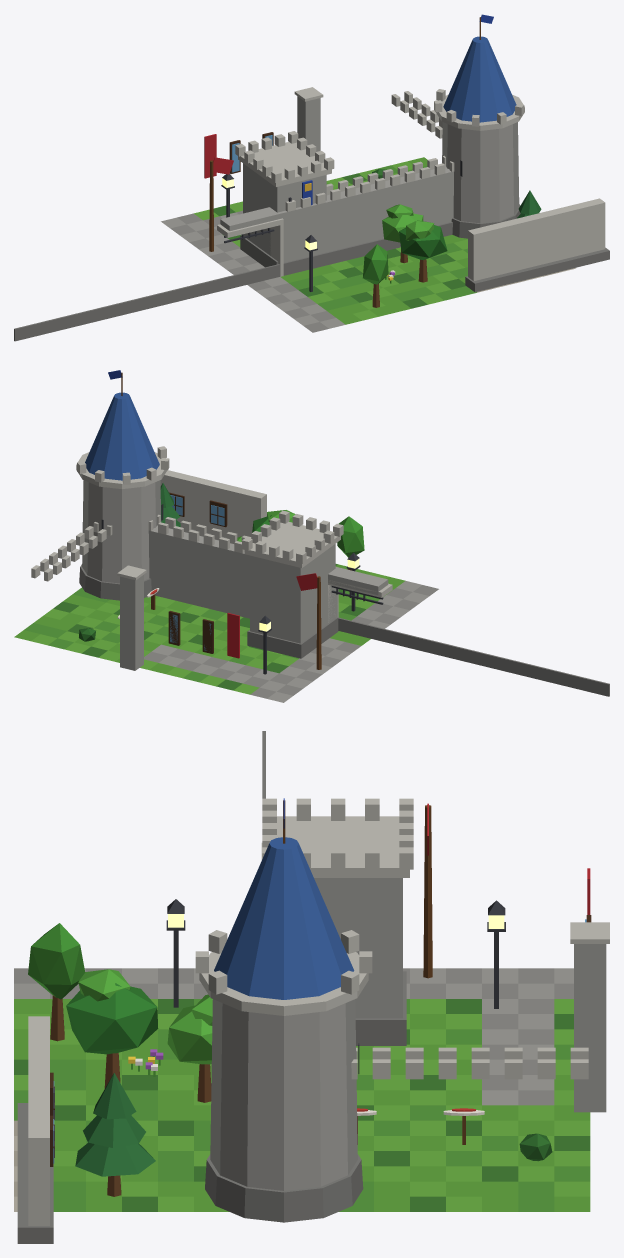
The model's file is chunk_2_1.glb.
3 renders of one model, top to bottom at view 1: azimuth 30°, elevation 25°; view 2: azimuth 150°, elevation 25°; view 3: azimuth 270°, elevation 25°, orthographic. The views are drawn at different scales.
Visible parts, largest first — view 1: chunk_2_1; view 2: chunk_2_1; view 3: chunk_2_1.
Boxes of the visible parts, left/top/right/bottom form: chunk_2_1: left=14, top=14, right=609, bottom=341; chunk_2_1: left=14, top=370, right=609, bottom=702; chunk_2_1: left=14, top=731, right=609, bottom=1243.
Size of the model in its own units: 32.2 by 12.1 by 16.55.
